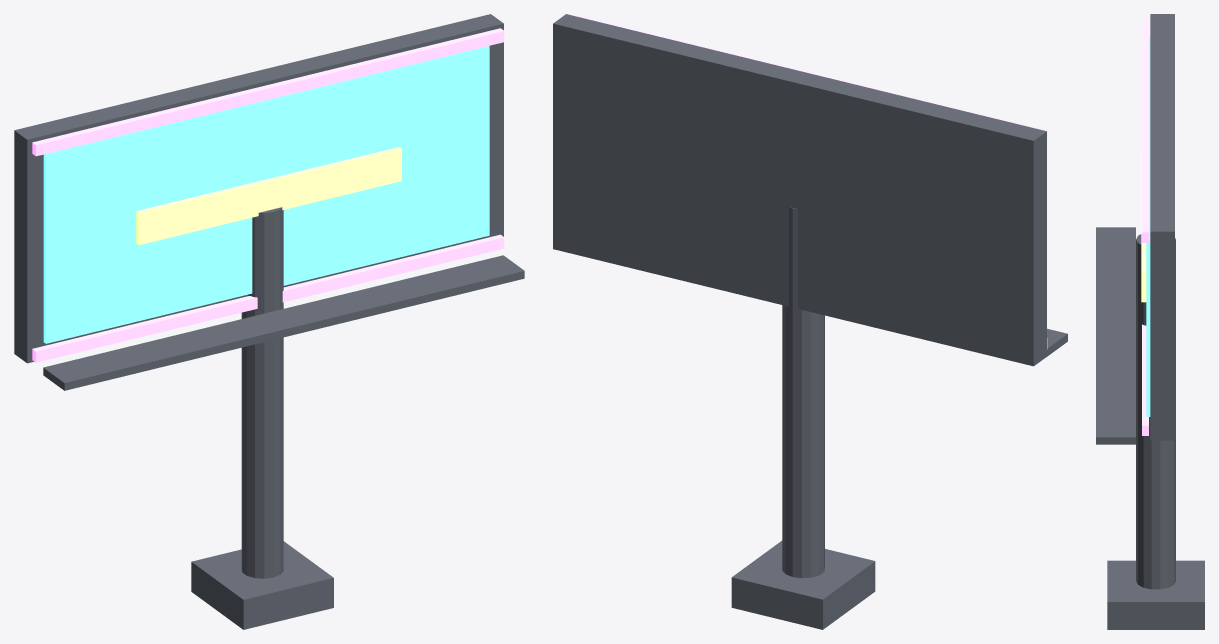
File: billboard.glb
The picture shows the model from 3 angles, left to right: view 1: azimuth 30°, elevation 25°; view 2: azimuth 150°, elevation 25°; view 3: azimuth 270°, elevation 25°; orthographic projection. The views are drawn at different scales.
Parts seen in each view (by area): view 1: Screen, FrameBack, Catwalk, Pole, LogoBar, BasePad, TopTrim, BotTrim; view 2: FrameBack, Pole, BasePad, TopTrim; view 3: FrameBack, Catwalk, Pole, BasePad, TopTrim, Screen, BotTrim, LogoBar.
Boxes of the visible parts, x1,y1,x2,y2 form: Screen: [43, 46, 489, 343]; FrameBack: [14, 14, 503, 363]; Catwalk: [43, 255, 524, 390]; Pole: [241, 207, 283, 578]; LogoBar: [136, 147, 401, 244]; BasePad: [191, 541, 333, 629]; TopTrim: [32, 28, 504, 156]; BotTrim: [32, 234, 504, 362]; FrameBack: [553, 14, 1046, 366]; Pole: [782, 207, 824, 578]; BasePad: [731, 540, 875, 629]; TopTrim: [573, 14, 1047, 140]; FrameBack: [1150, 14, 1174, 440]; Catwalk: [1096, 227, 1135, 444]; Pole: [1136, 234, 1175, 589]; BasePad: [1107, 560, 1204, 629]; TopTrim: [1142, 18, 1148, 242]; Screen: [1146, 37, 1150, 416]; BotTrim: [1142, 324, 1148, 435]; LogoBar: [1141, 152, 1146, 302].
Bounding box in the file's own units: 11.6 × 12.1 × 2.45.
